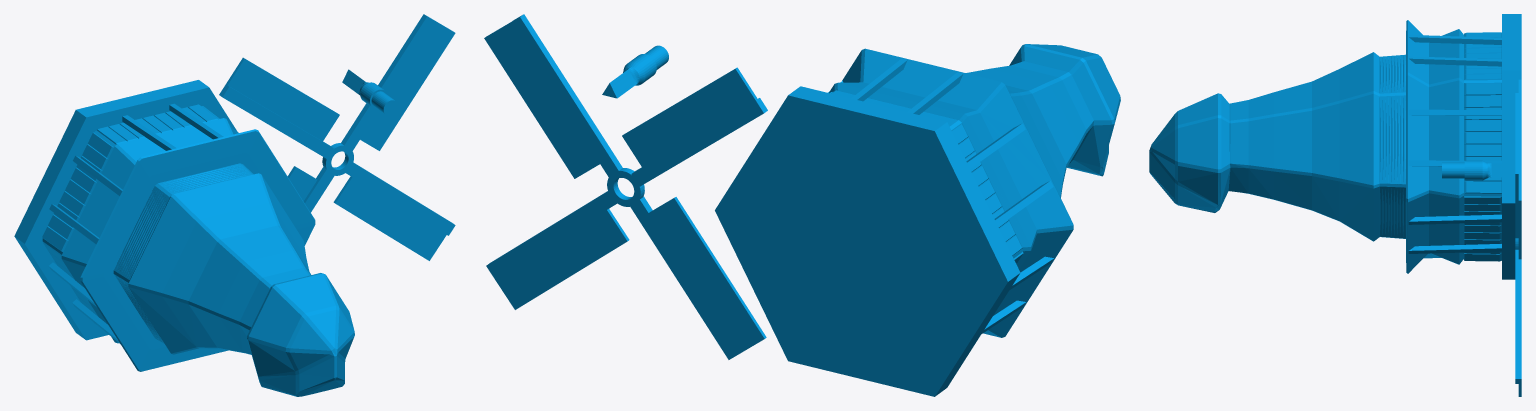
The model's file is windmill.obj.
3 views of the same model, side by side, from view 1: azimuth 30°, elevation 25°; view 2: azimuth 150°, elevation 25°; view 3: azimuth 270°, elevation 25° (orthographic). The views are drawn at different scales.
Visible parts, largest first — view 1: Object.2, Object.3, Object.1; view 2: Object.2, Object.3, Object.1; view 3: Object.2, Object.3, Object.1.
Part boxes in pixels (left/top/right/bottom): Object.2: left=14, top=80, right=354, bottom=396; Object.3: left=219, top=14, right=455, bottom=260; Object.1: left=342, top=69, right=398, bottom=115; Object.2: left=715, top=44, right=1120, bottom=396; Object.3: left=484, top=14, right=767, bottom=359; Object.1: left=602, top=45, right=668, bottom=98; Object.2: left=1149, top=14, right=1521, bottom=279; Object.3: left=1515, top=79, right=1521, bottom=396; Object.1: left=1442, top=160, right=1515, bottom=180.
Bounding box in the file's own units: 118 × 63.52 × 92.24.
